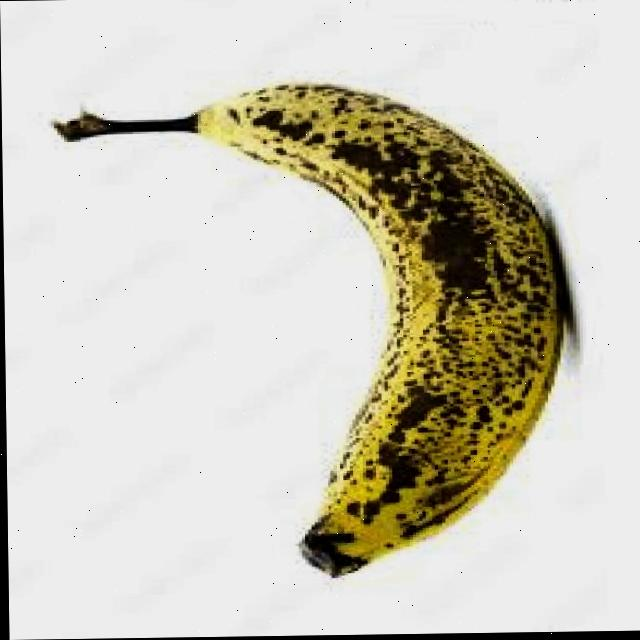banana: (45, 76, 579, 584)
